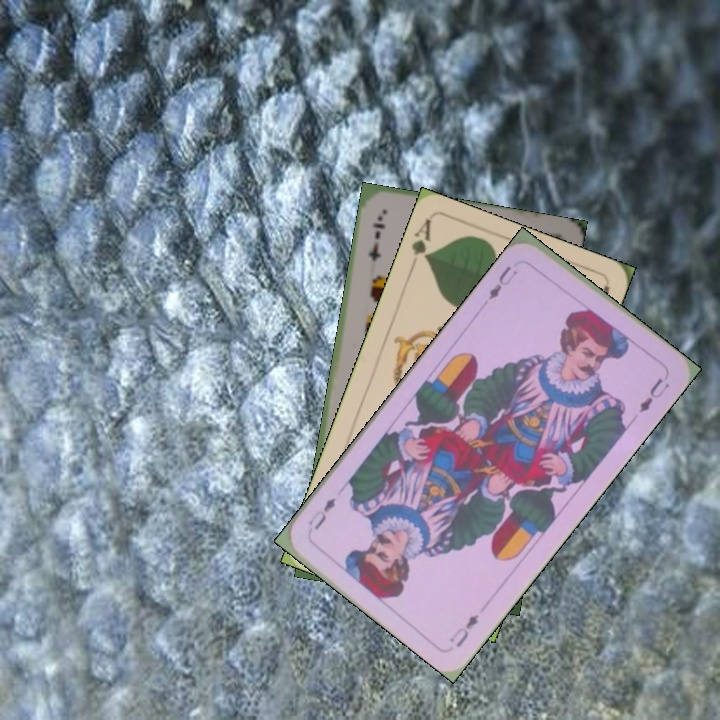E7: (364, 211, 387, 264)
EU: (483, 262, 520, 303), (445, 610, 482, 650)
GA: (406, 215, 434, 274)
